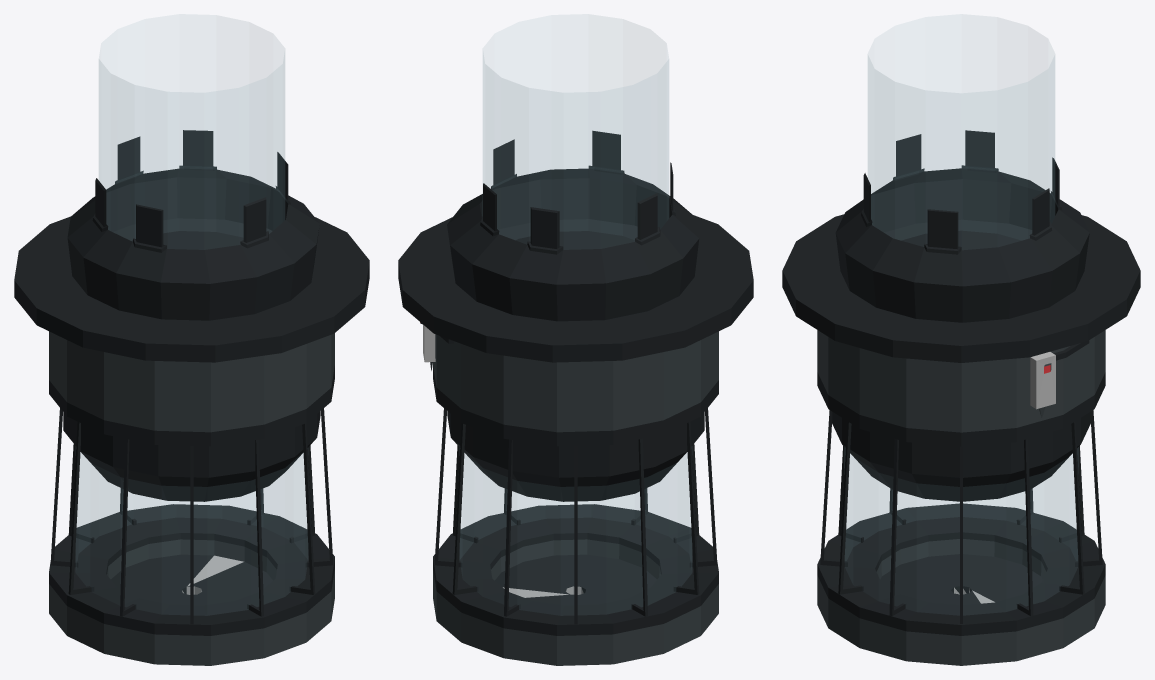
Rendered from spawn.gltf.
3 views of the same model, side by side, from view 1: azimuth 30°, elevation 25°; view 2: azimuth 150°, elevation 25°; view 3: azimuth 270°, elevation 25° (orthographic).
Parts seen in each view (by area): view 1: Dispenser.001_1; view 2: Dispenser.001_1; view 3: Dispenser.001_1.
Boxes of the visible parts, x1,y1,x2,y2 form: Dispenser.001_1: [14, 50, 369, 665]; Dispenser.001_1: [398, 50, 753, 665]; Dispenser.001_1: [782, 55, 1140, 665].
Bounding box in the file's own units: 15.63 × 26.55 × 15.63.
